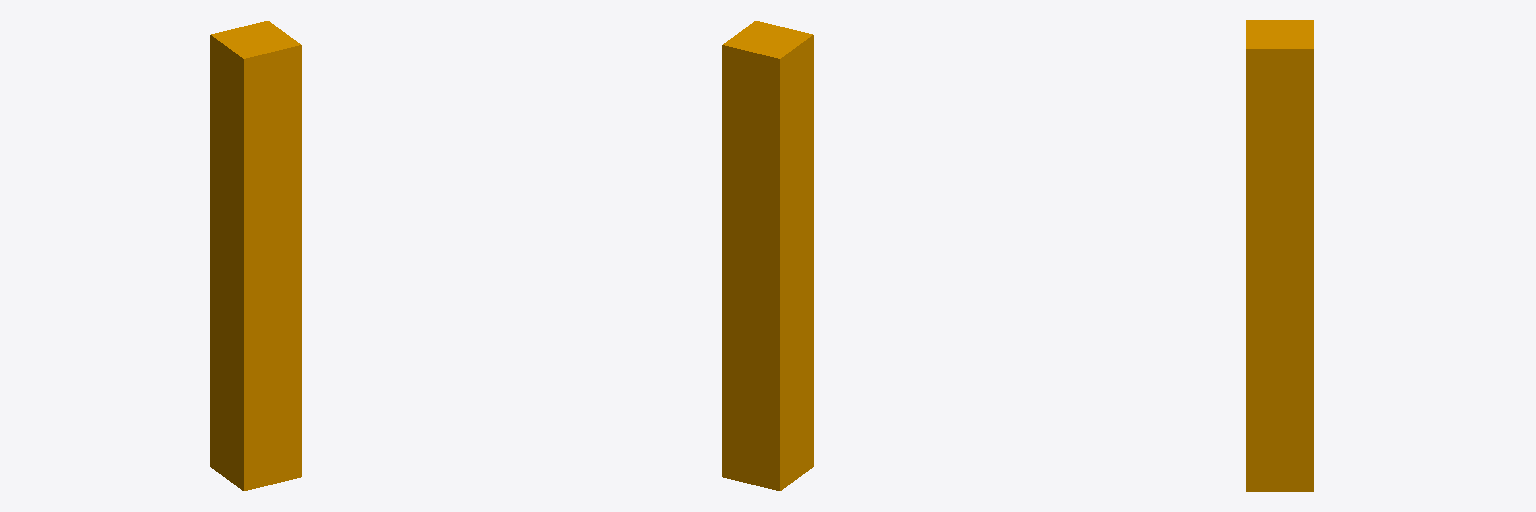
The robot description file, URDF, robot "box":
<robot name="box">
    <link name="my_box">
        <inertial>
            <origin xyz="0 0 0" />
            <mass value="0.05" />
            <inertia ixx="1e-6" ixy="0.0" ixz="0.0" iyy="1e-6" iyz="0.0" izz="1e-6" />
        </inertial>
        <visual>
            <origin xyz="0 0 0"/>
            <geometry>
                <box size="0.014 0.014 0.1" />
            </geometry>
        </visual>
        <collision>
            <origin xyz="0 0 0"/>
            <geometry>
                <box size="0.014 0.014 0.1" />
            </geometry>
        </collision>
    </link>
    <gazebo reference="my_box">
        <material>Gazebo/Green</material>
    </gazebo>
    <gazebo reference="my_box">
        <mu1>1.00</mu1>
        <mu2>1.00</mu2>
    </gazebo>
</robot>

--- Render facts (derived) ---
The picture shows the robot from 3 angles, left to right: view 1: azimuth 30°, elevation 25°; view 2: azimuth 150°, elevation 25°; view 3: azimuth 270°, elevation 25°; orthographic projection.
Robot: box — 1 links, 0 joints (none); root link my_box; default pose: all joints at 0.
Visible links, largest first — view 1: my_box; view 2: my_box; view 3: my_box.
Link boxes in pixels (left/top/right/bottom): my_box: left=210, top=21, right=301, bottom=490; my_box: left=722, top=21, right=813, bottom=490; my_box: left=1246, top=20, right=1313, bottom=491.
Size in the robot's own frame: 0.014 by 0.014 by 0.1 metres.
Geometry: primitives only (box / cylinder / sphere), no mesh files.
